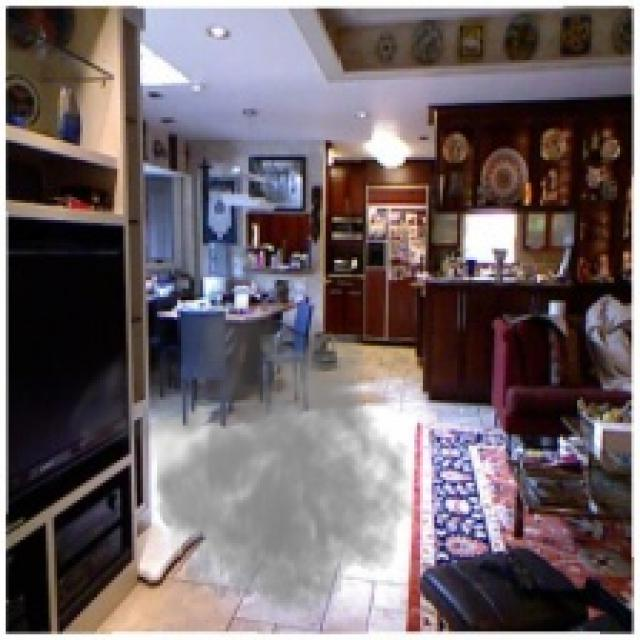smoke: (63, 292, 417, 637)
